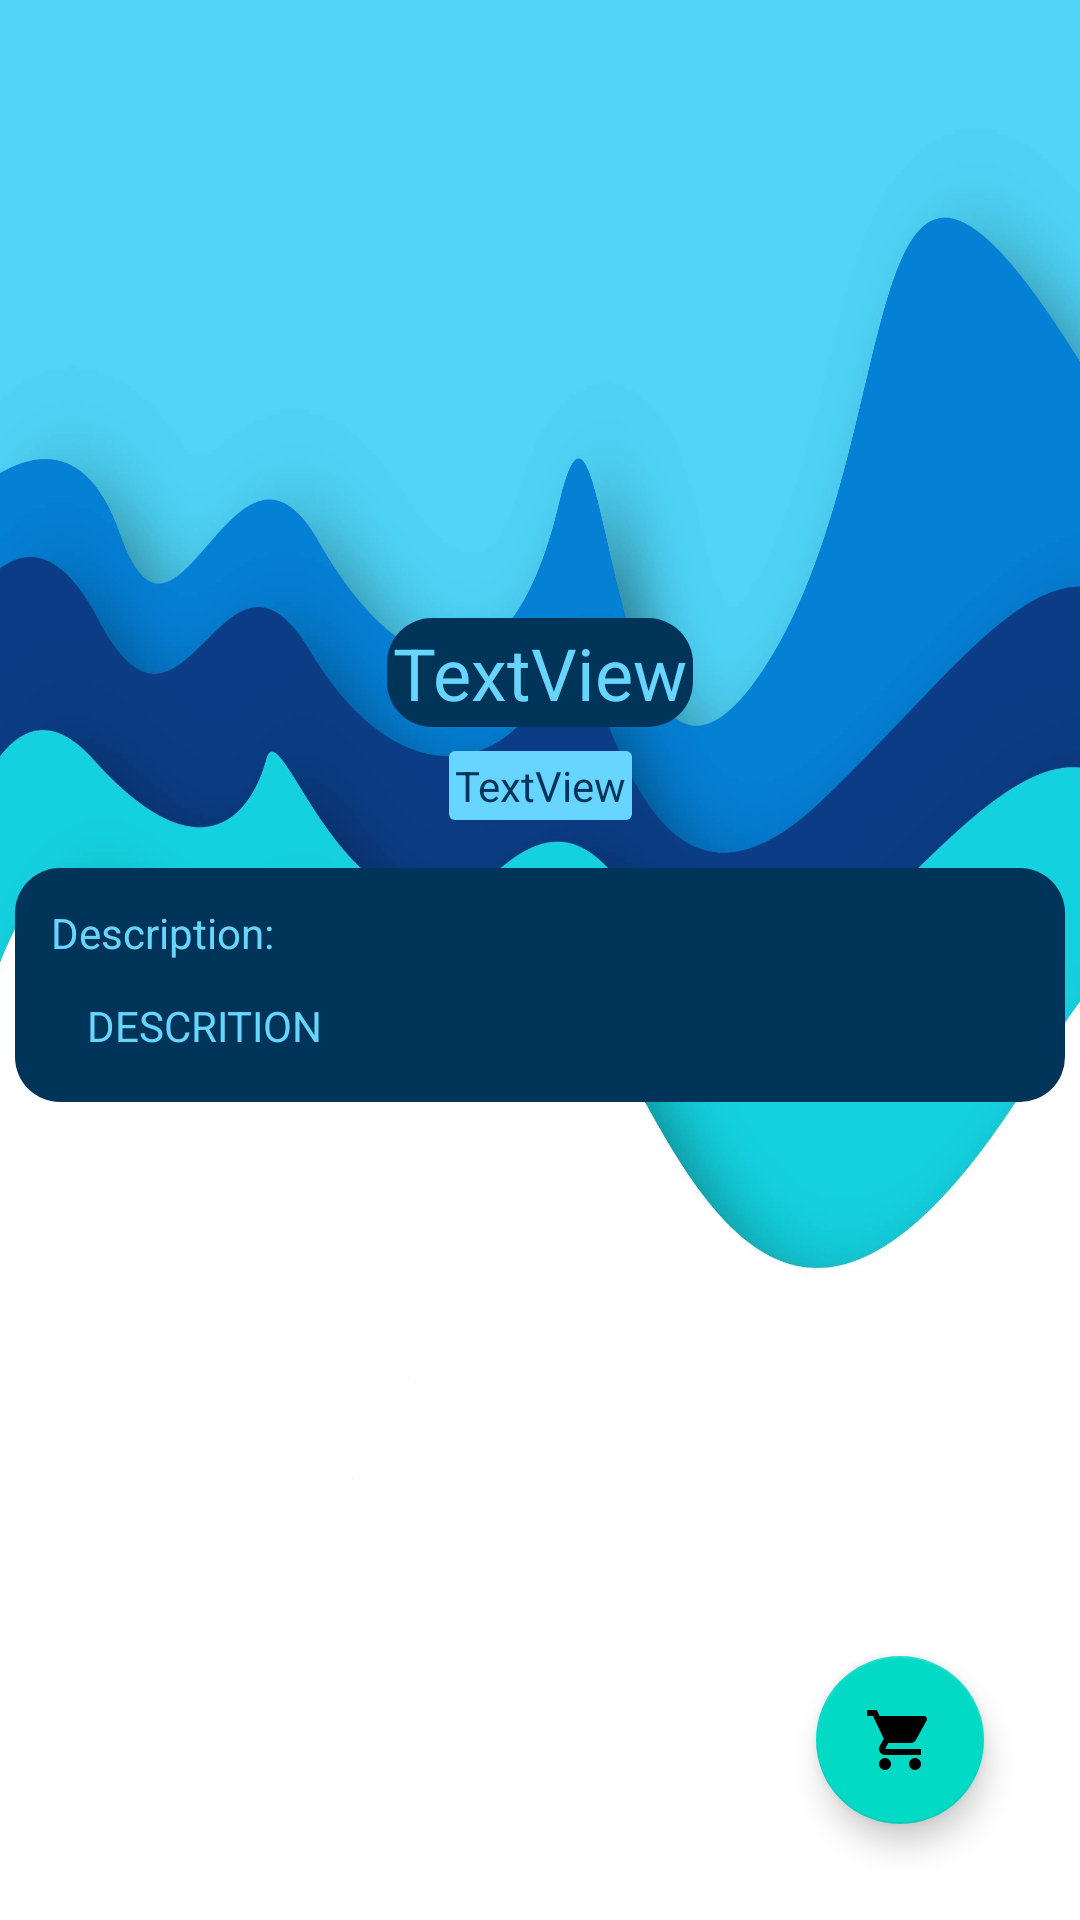

Icons on this 1080*1920 Android screen, each with its box as (x1, y1, x2, y2):
shopping cart: (816, 1656, 984, 1824)
